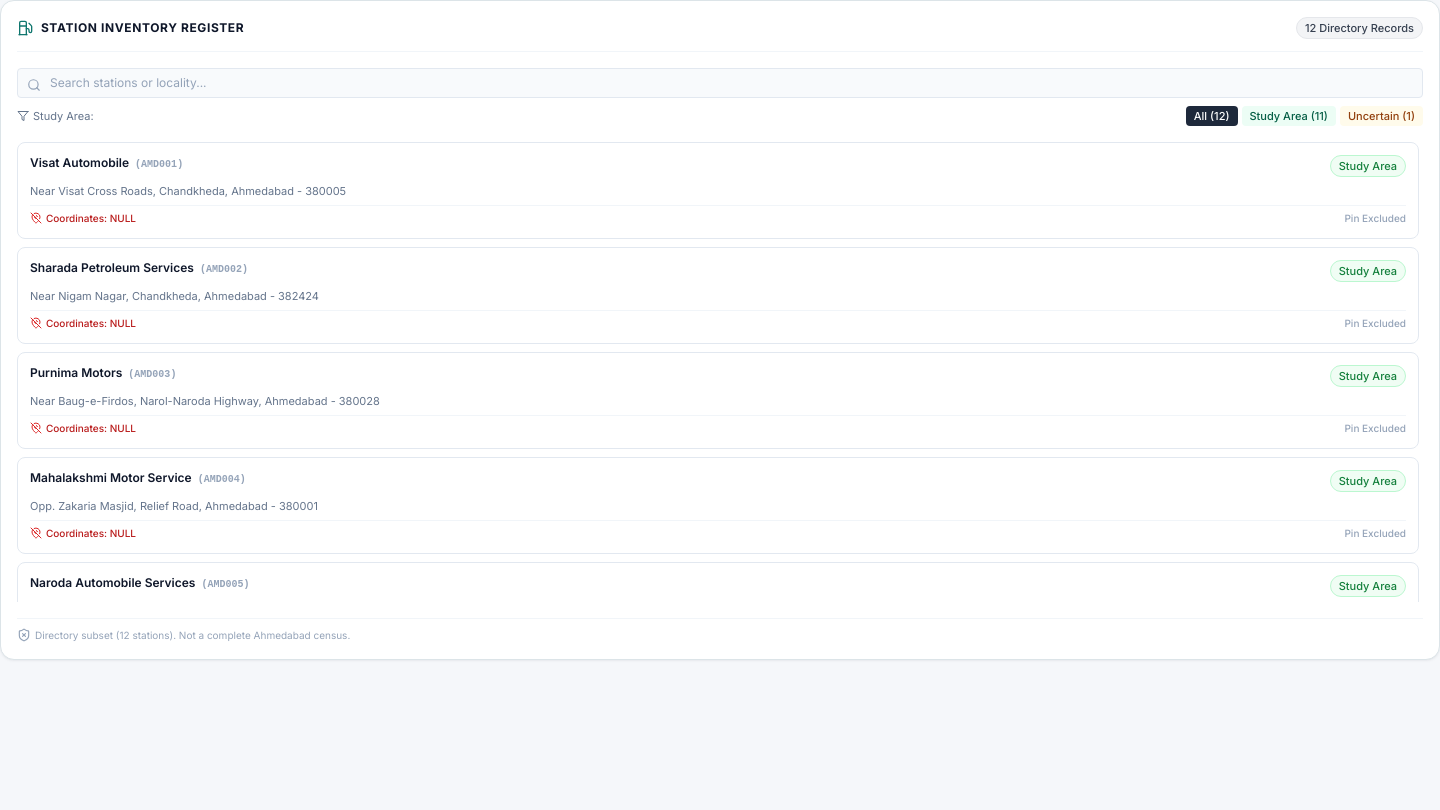
Milestone 4 Ahmedabad Map & Candidate-Location Exploration › MapStationSidebar › filters stations by search and study area status
Note: Filter by uncertain
Click the button "Uncertain (1)": (1381, 116) [1340,106,1423,126]
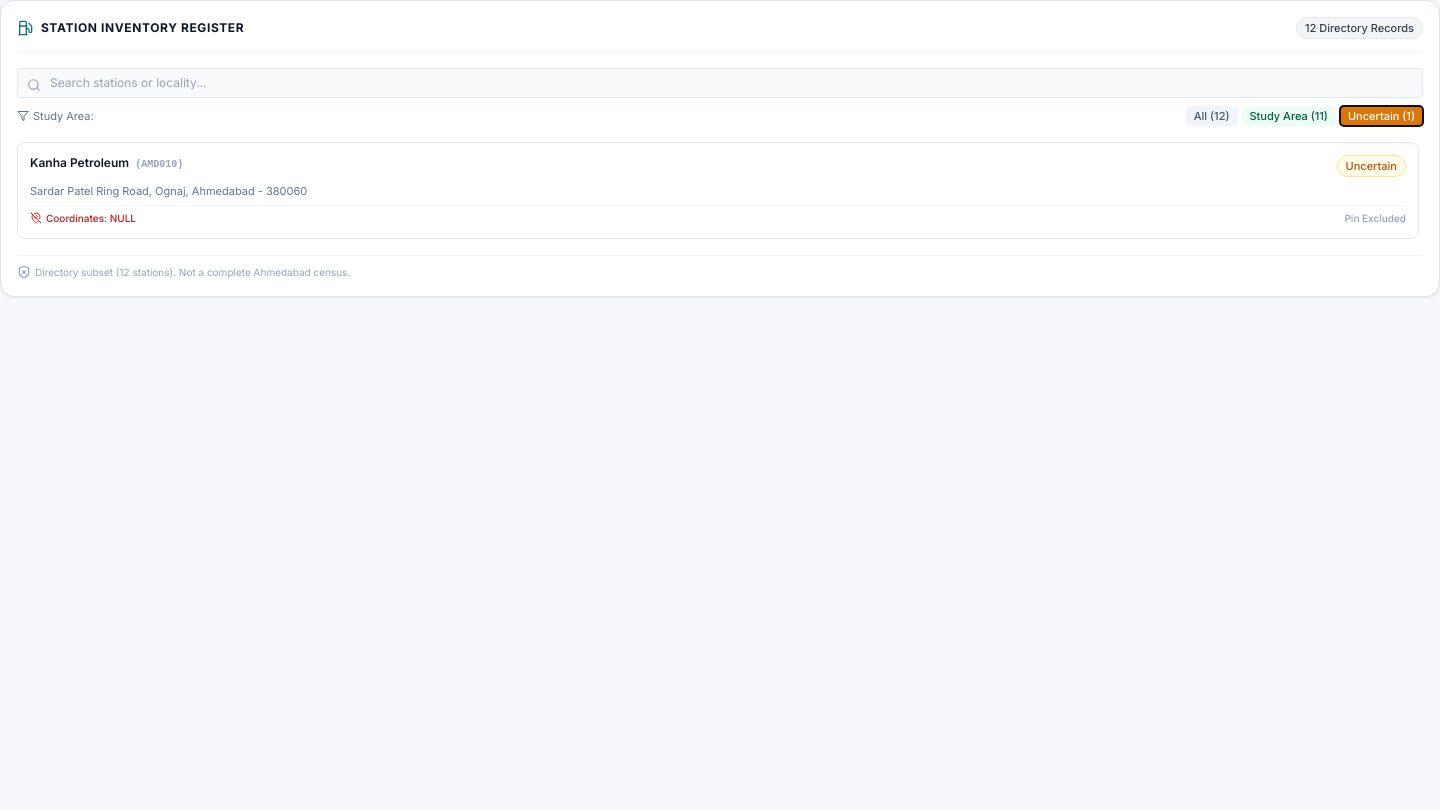
expect the text "Kanha Petroleum" is shown: met, box [30,155,129,170]
expect the text "Visat Automobile" is gone: met
Note: Search input
In the field named "Search map directory stations": (720, 83) [17,68,1423,98], type "HP Auto Care"
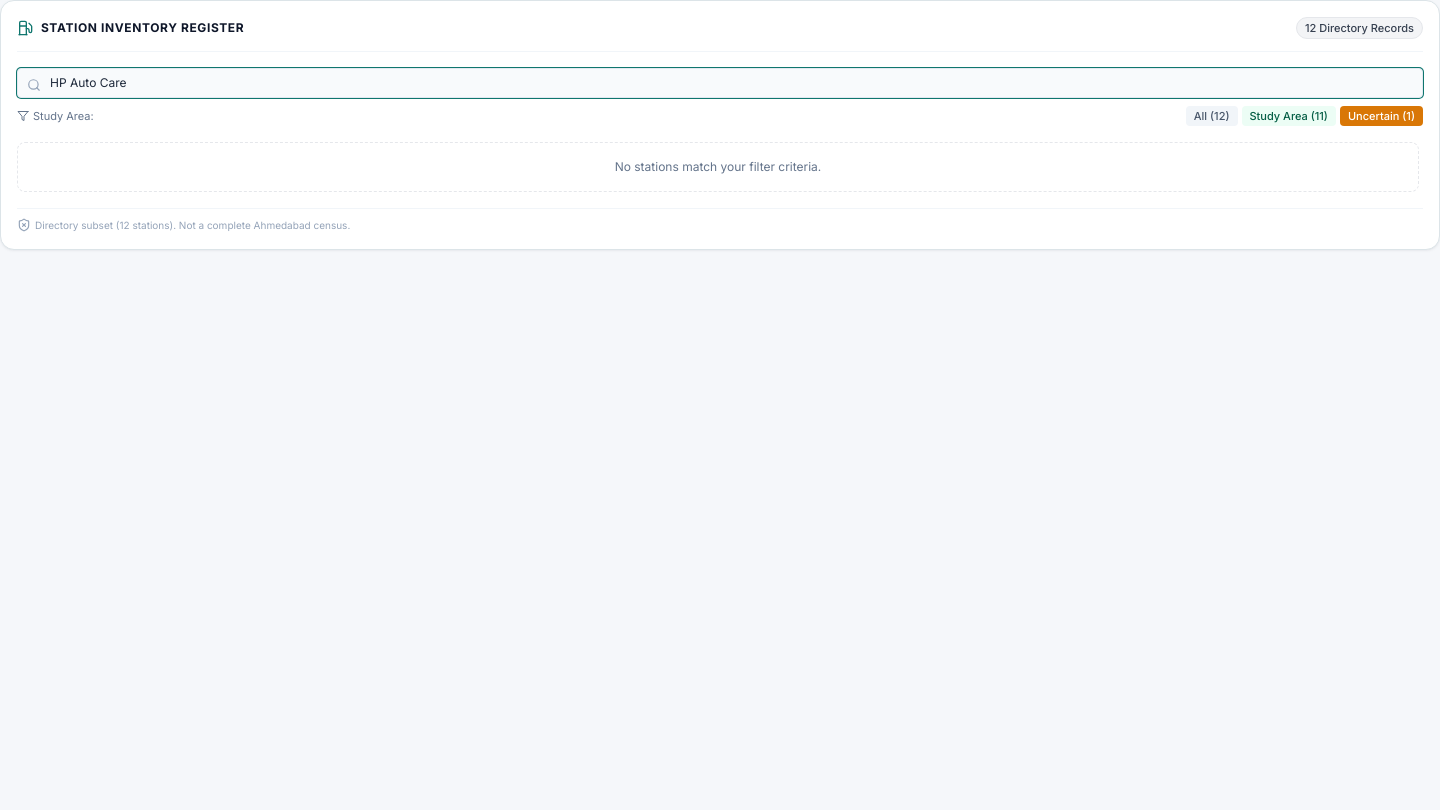
expect the text "Kanha Petroleum" is gone: met
